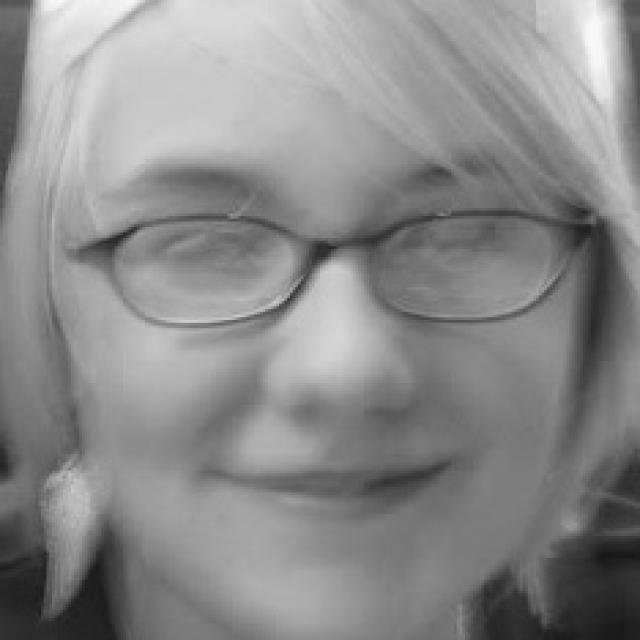real: (63, 2, 584, 636), (122, 198, 522, 292)
